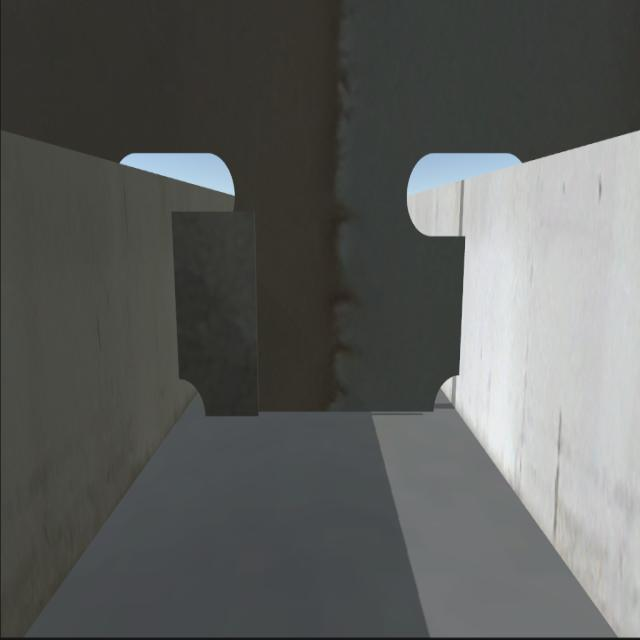fillet_hole: (423, 376, 463, 416), (177, 376, 208, 419)
fillet_yong_jeop_jang: (208, 413, 439, 420)
longi_yong_jeop_jang: (452, 235, 474, 370), (171, 216, 185, 372)
plate_CP01: (171, 205, 254, 418)
